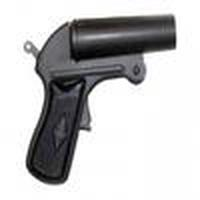gun: (15, 19, 178, 180)
